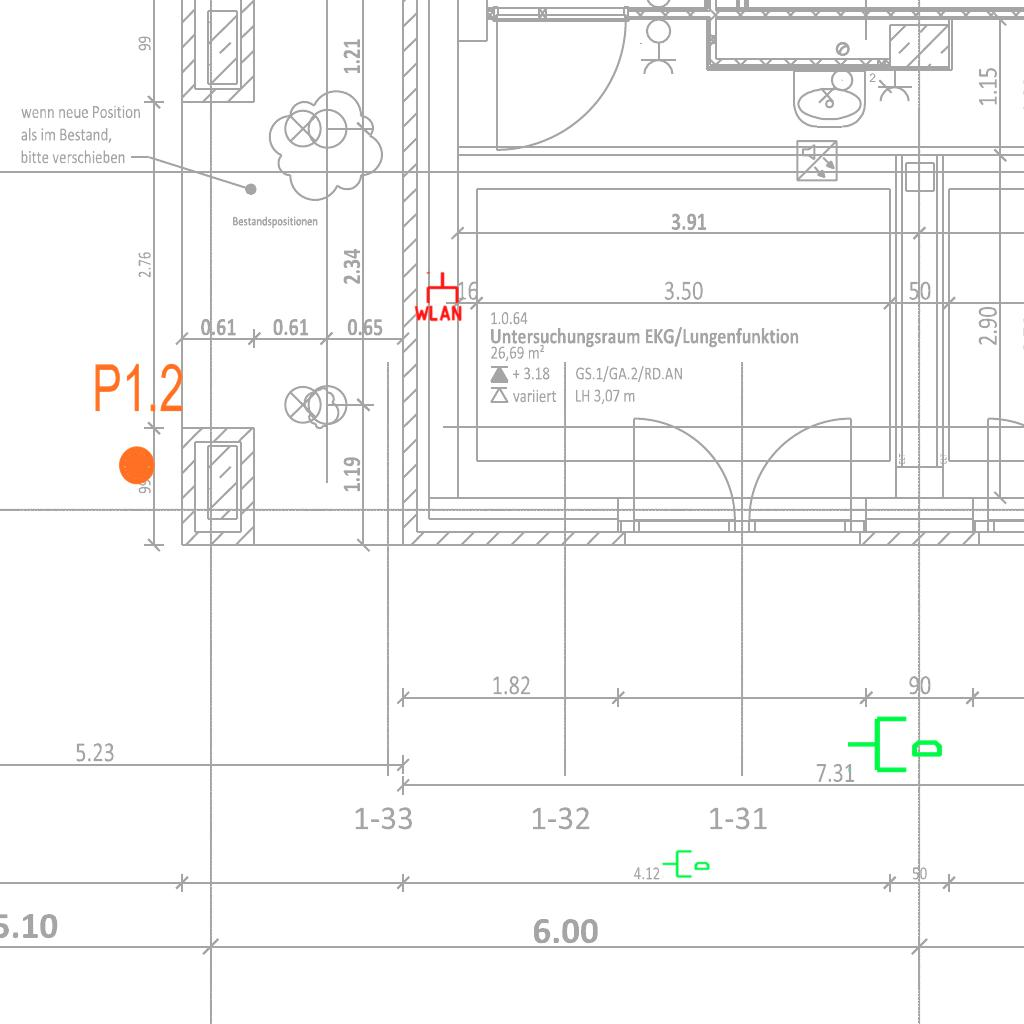Datenanschluss_einfach: (845, 708, 945, 777), (661, 846, 711, 880)
Downlight_LED_Einbauleuchten_Flur: (92, 360, 185, 488)
WLAN: (412, 270, 464, 322)
